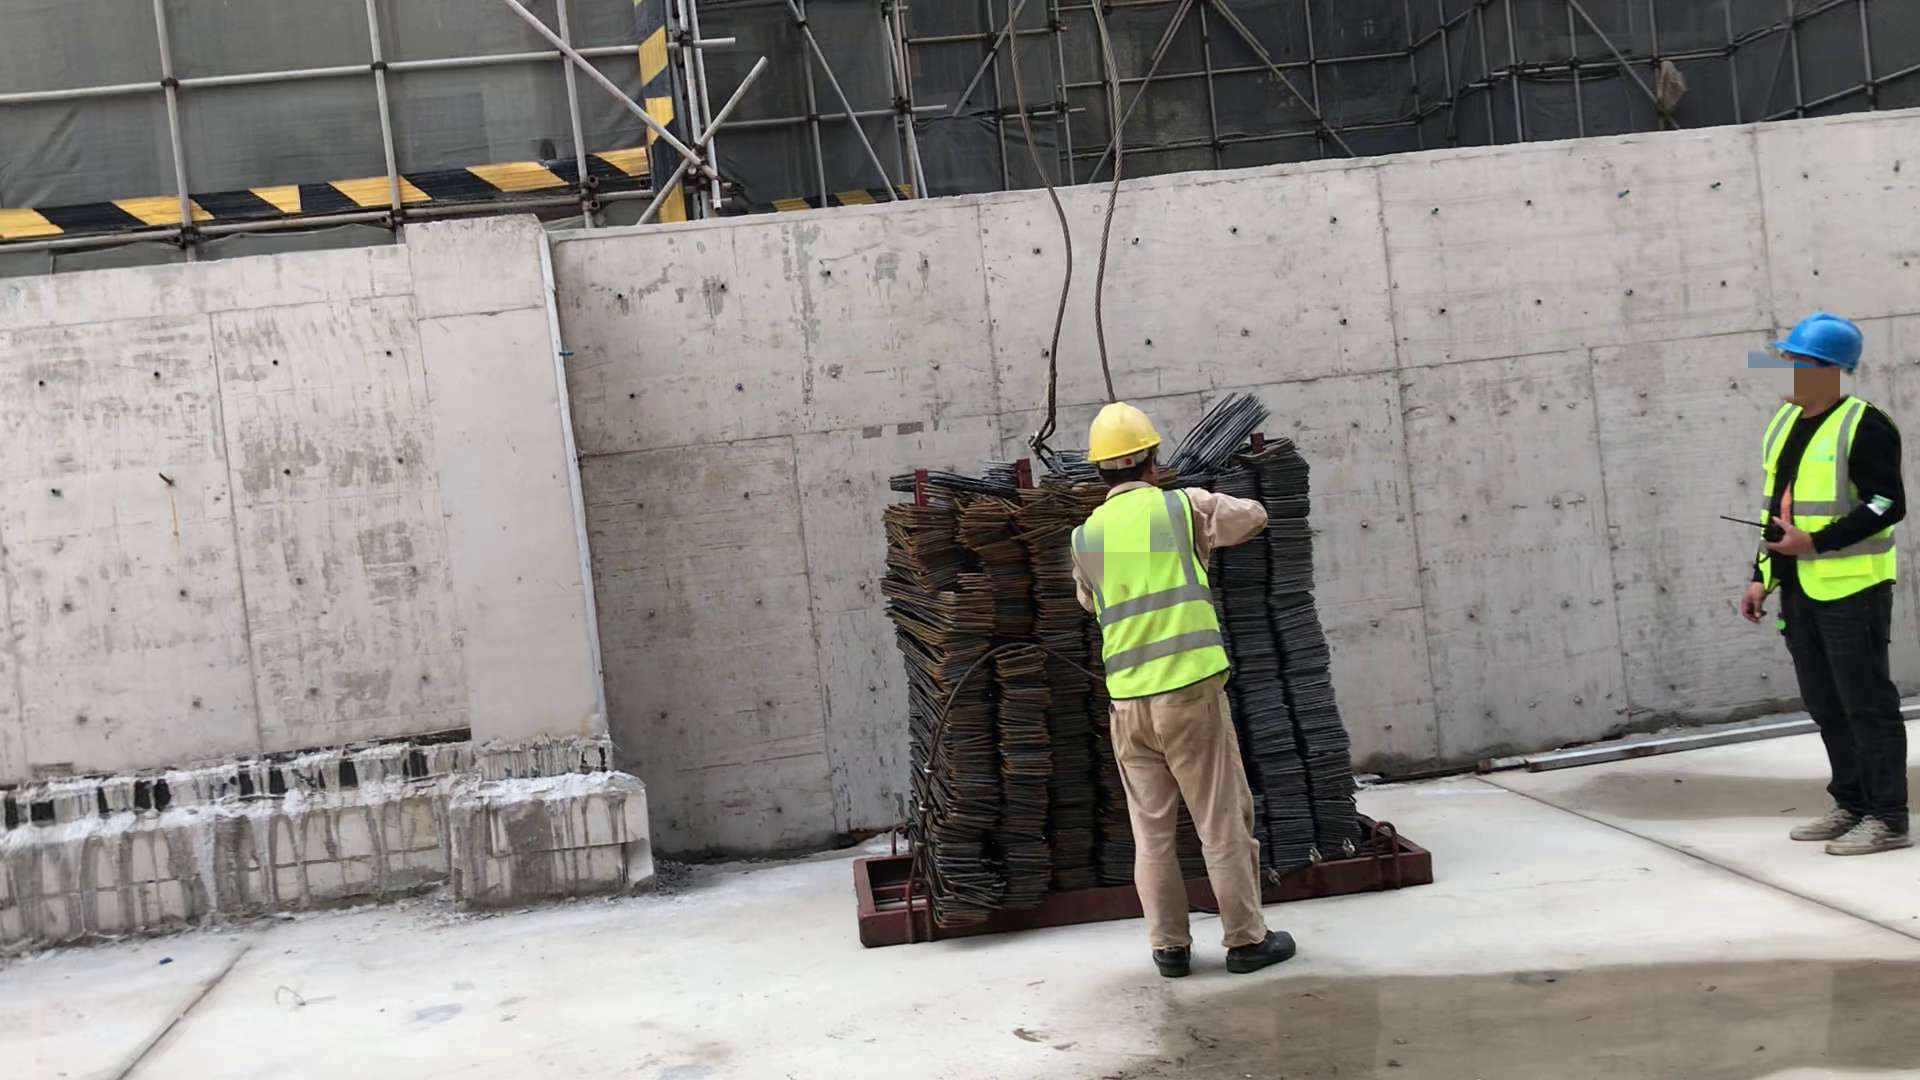helmet: (1765, 296, 1884, 374), (1070, 399, 1179, 458)
person: (1073, 396, 1289, 991), (1742, 280, 1918, 866)
vest: (1081, 487, 1237, 682), (1758, 398, 1898, 576)
